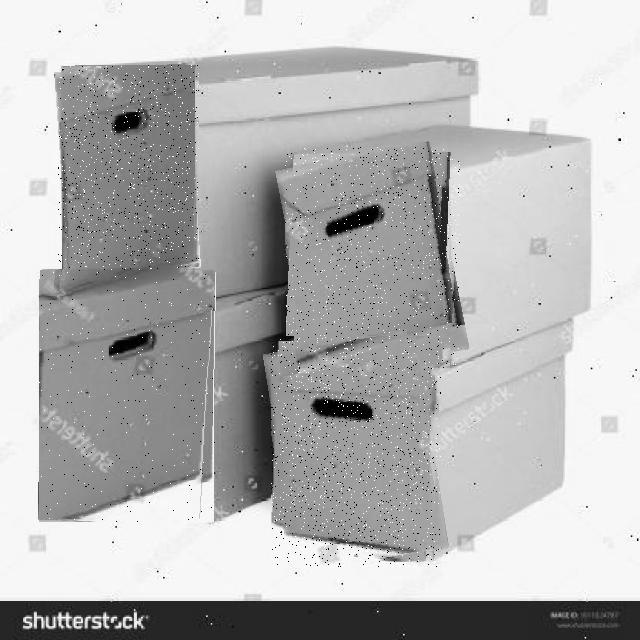BoxFace: (39, 270, 215, 522), (285, 147, 460, 373), (271, 336, 441, 567), (58, 65, 199, 300)
